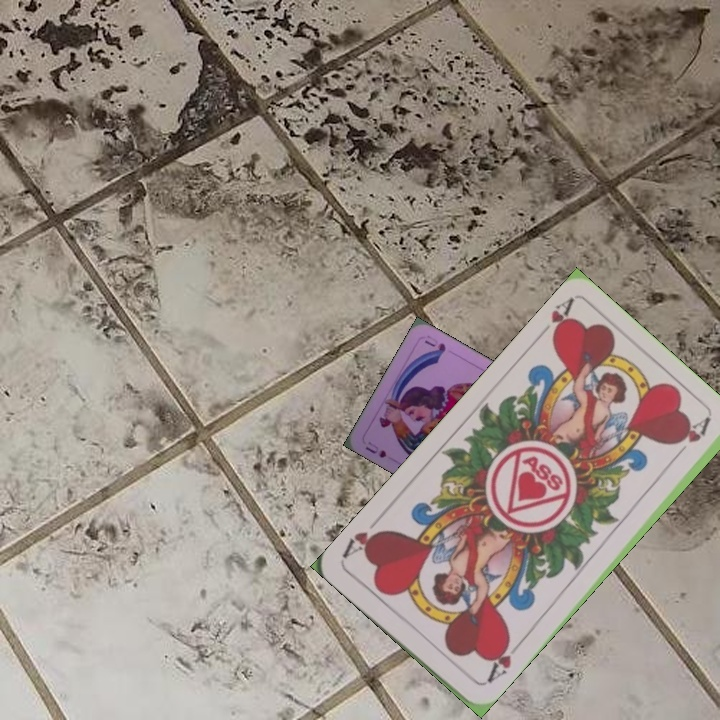HA: (479, 635, 524, 687), (532, 295, 576, 344)
SU: (361, 437, 389, 461)
